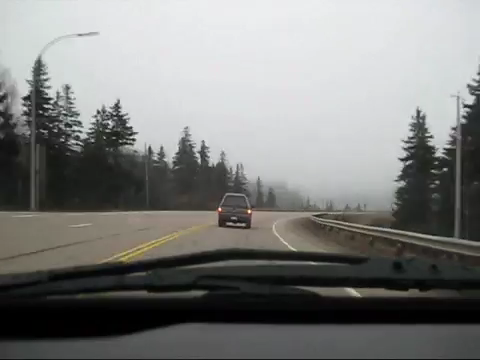car: (217, 192, 253, 228)
